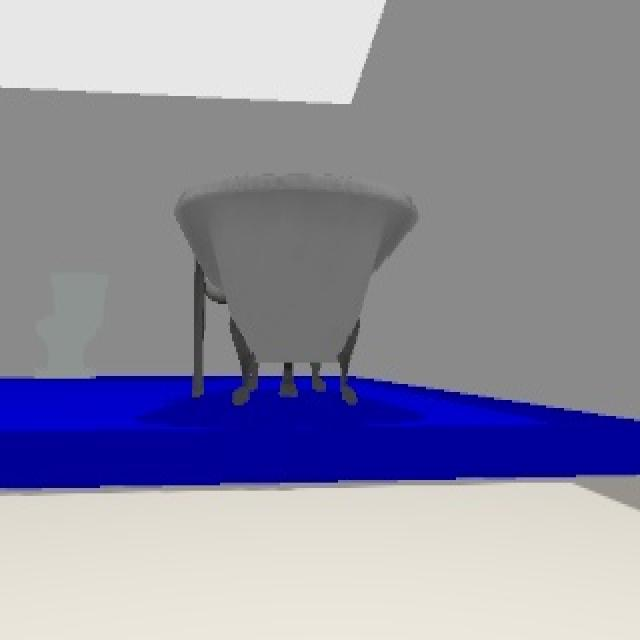bathtub: (174, 173, 420, 408)
